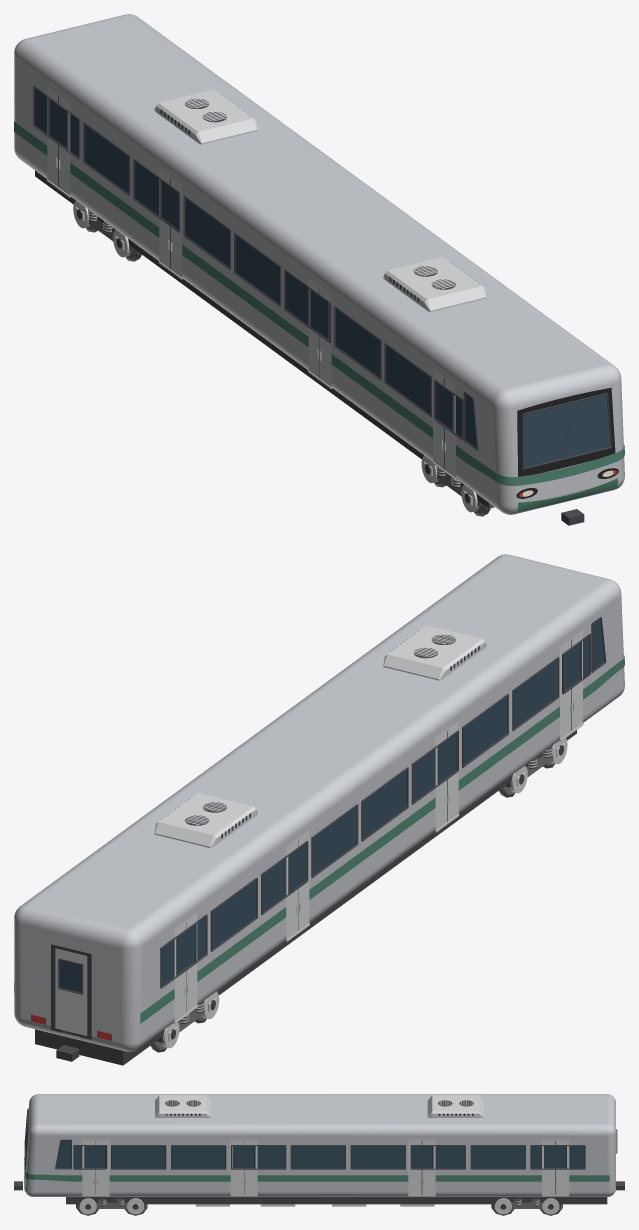
File: 1_close.fbx
3 renders of one model, top to bottom at view 1: azimuth 30°, elevation 25°; view 2: azimuth 150°, elevation 25°; view 3: azimuth 270°, elevation 25°, orthographic. The views are drawn at different scales.
Parts seen in each view (by area): view 1: 20_1_close; view 2: 20_1_close; view 3: 20_1_close.
Part boxes in pixels (<box>): 20_1_close: <box>14,14,624,525</box>; 20_1_close: <box>14,554,624,1065</box>; 20_1_close: <box>14,1094,624,1215</box>.
Size of the model in its own units: 3.01 by 3.8 by 20.6.
